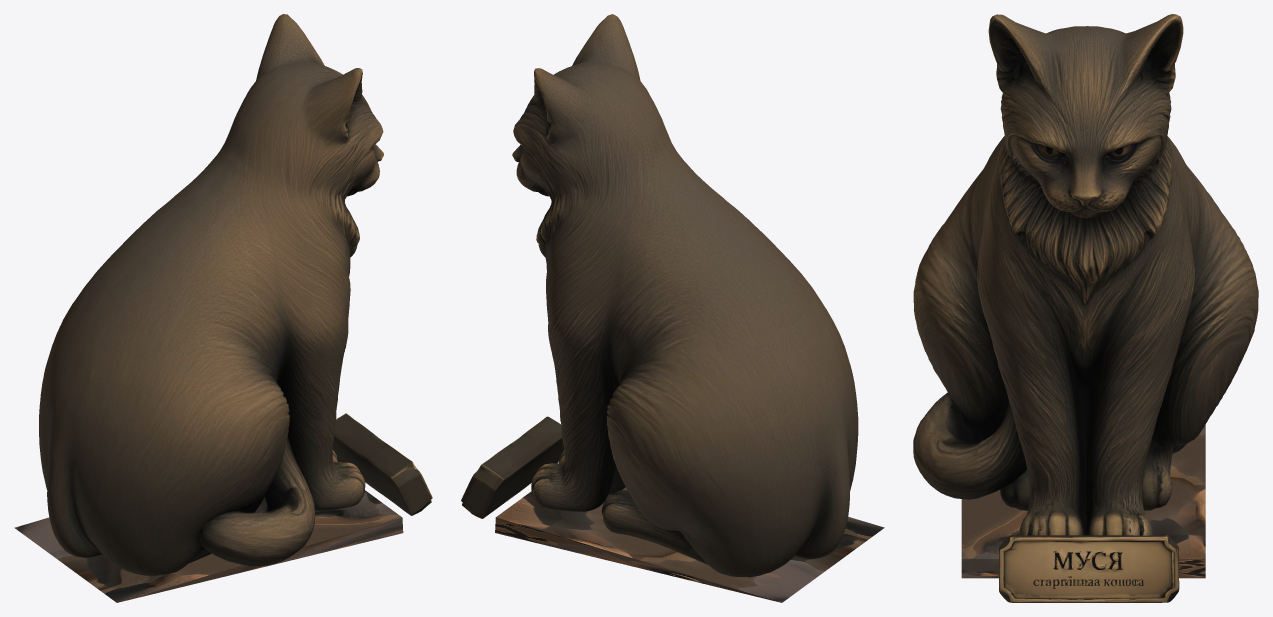
Rendered from DOM_andreyvbvbvb_4.glb.
3 views of the same model, side by side, from view 1: azimuth 30°, elevation 25°; view 2: azimuth 150°, elevation 25°; view 3: azimuth 270°, elevation 25° (orthographic). The views are drawn at different scales.
Parts seen in each view (by area): view 1: tripo_node_3788759f-bf72-4927-9855-4392b96f336d, Cube; view 2: tripo_node_3788759f-bf72-4927-9855-4392b96f336d, Cube; view 3: tripo_node_3788759f-bf72-4927-9855-4392b96f336d, Cube.
Part boxes in pixels (x1=…): tripo_node_3788759f-bf72-4927-9855-4392b96f336d: x1=39, y1=14, x2=432, y2=575; Cube: x1=14, y1=490, x2=403, y2=602; tripo_node_3788759f-bf72-4927-9855-4392b96f336d: x1=461, y1=14, x2=858, y2=577; Cube: x1=495, y1=487, x2=884, y2=602; tripo_node_3788759f-bf72-4927-9855-4392b96f336d: x1=913, y1=14, x2=1258, y2=602; Cube: x1=961, y1=425, x2=1205, y2=578.
Size of the model in its own units: 0.7806 by 0.98 by 0.5604.
Materials: 2 (2 with a texture image).
